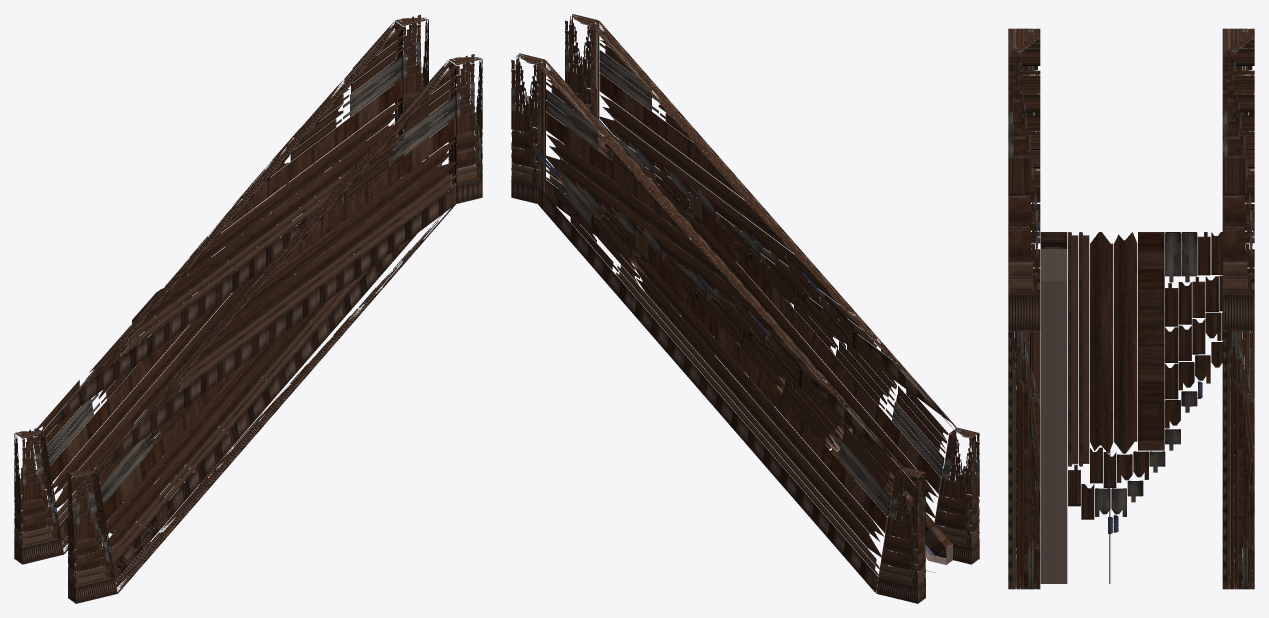
Rendered from DS_WizLab_Arch_Staircase_Collider.fbx.
3 views of the same model, side by side, from view 1: azimuth 30°, elevation 25°; view 2: azimuth 150°, elevation 25°; view 3: azimuth 270°, elevation 25° (orthographic). The views are drawn at different scales.
Parts seen in each view (by area): view 1: DS_WizLab_Arch_Staircase_Collider_01, DS_WizLab_Arch_Staircase_Collider_04, DS_WizLab_Arch_Staircase_Collider_03, DS_WizLab_Arch_Staircase_Collider_00, DS_WizLab_Arch_Staircase_Collider_02, DS_WizLab_Arch_Staircase_Collider_06, DS_WizLab_Arch_Staircase_Collider_05; view 2: DS_WizLab_Arch_Staircase_Collider_04, DS_WizLab_Arch_Staircase_Collider_01, DS_WizLab_Arch_Staircase_Collider_03, DS_WizLab_Arch_Staircase_Collider_00, DS_WizLab_Arch_Staircase_Collider_05, DS_WizLab_Arch_Staircase_Collider_06, DS_WizLab_Arch_Staircase_Collider_02; view 3: DS_WizLab_Arch_Staircase_Collider_06, DS_WizLab_Arch_Staircase_Collider_05, DS_WizLab_Arch_Staircase_Collider_02, DS_WizLab_Arch_Staircase_Collider_04, DS_WizLab_Arch_Staircase_Collider_01, DS_WizLab_Arch_Staircase_Collider_03, DS_WizLab_Arch_Staircase_Collider_00.
Boxes of the visible parts, x1=… form: DS_WizLab_Arch_Staircase_Collider_01: x1=91, y1=60, x2=455, y2=593; DS_WizLab_Arch_Staircase_Collider_04: x1=37, y1=21, x2=402, y2=553; DS_WizLab_Arch_Staircase_Collider_03: x1=14, y1=428, x2=63, y2=564; DS_WizLab_Arch_Staircase_Collider_00: x1=68, y1=467, x2=117, y2=603; DS_WizLab_Arch_Staircase_Collider_02: x1=448, y1=54, x2=482, y2=203; DS_WizLab_Arch_Staircase_Collider_06: x1=98, y1=139, x2=457, y2=577; DS_WizLab_Arch_Staircase_Collider_05: x1=395, y1=14, x2=428, y2=159; DS_WizLab_Arch_Staircase_Collider_04: x1=538, y1=60, x2=902, y2=592; DS_WizLab_Arch_Staircase_Collider_01: x1=592, y1=21, x2=956, y2=522; DS_WizLab_Arch_Staircase_Collider_03: x1=876, y1=467, x2=925, y2=603; DS_WizLab_Arch_Staircase_Collider_00: x1=935, y1=427, x2=979, y2=564; DS_WizLab_Arch_Staircase_Collider_05: x1=511, y1=53, x2=544, y2=203; DS_WizLab_Arch_Staircase_Collider_06: x1=554, y1=131, x2=952, y2=572; DS_WizLab_Arch_Staircase_Collider_02: x1=565, y1=14, x2=598, y2=155; DS_WizLab_Arch_Staircase_Collider_06: x1=1040, y1=232, x2=1237, y2=583; DS_WizLab_Arch_Staircase_Collider_05: x1=1222, y1=28, x2=1254, y2=331; DS_WizLab_Arch_Staircase_Collider_02: x1=1008, y1=28, x2=1040, y2=331; DS_WizLab_Arch_Staircase_Collider_04: x1=1222, y1=28, x2=1254, y2=589; DS_WizLab_Arch_Staircase_Collider_01: x1=1008, y1=28, x2=1040, y2=589; DS_WizLab_Arch_Staircase_Collider_03: x1=1227, y1=331, x2=1254, y2=589; DS_WizLab_Arch_Staircase_Collider_00: x1=1012, y1=331, x2=1040, y2=589.
Bounding box in the file's own units: 438 × 459 × 115.
1 material, 1 textured.
